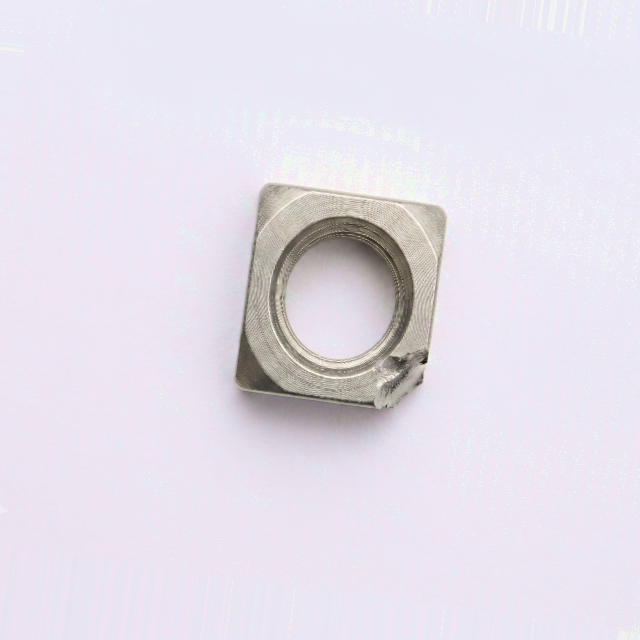defect: (372, 338, 448, 412)
